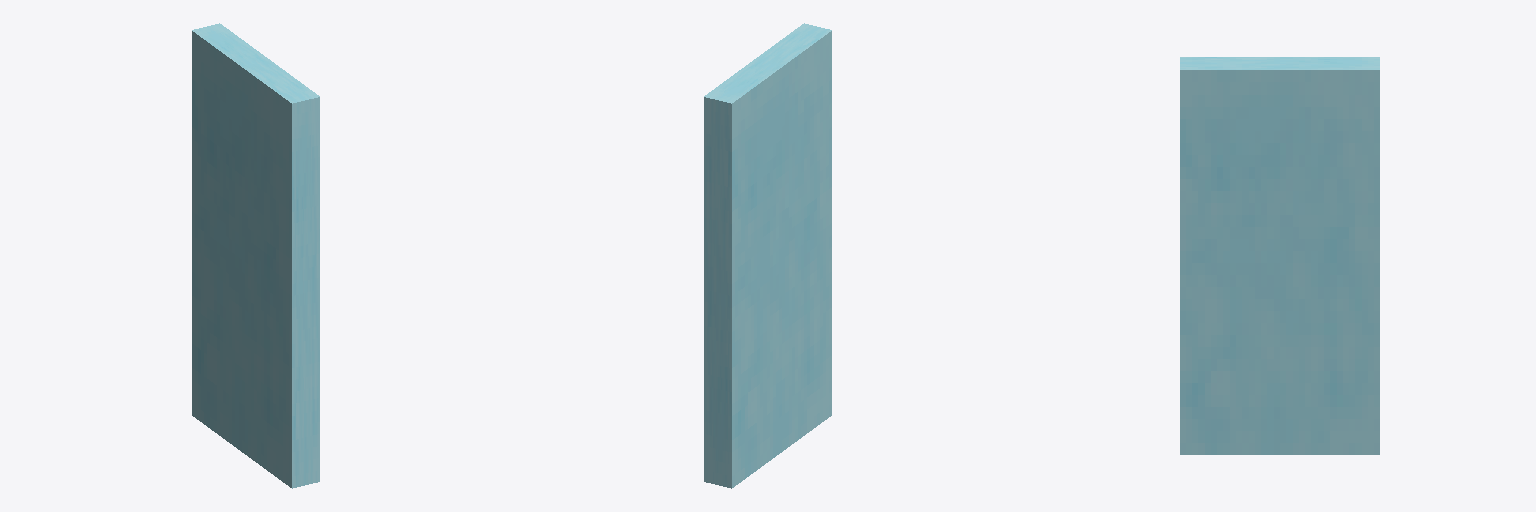
3 renders of one model, left to right at view 1: azimuth 30°, elevation 25°; view 2: azimuth 150°, elevation 25°; view 3: azimuth 270°, elevation 25°, orthographic.
Parts seen in each view (by area): view 1: pCube1; view 2: pCube1; view 3: pCube1.
Boxes of the visible parts, box(x1,y1,x2,y2) form: pCube1: box(192, 23, 319, 488); pCube1: box(704, 23, 831, 488); pCube1: box(1180, 57, 1379, 454).
Bounding box in the file's own units: 1 × 12.91 × 6.11.
1 materials, 1 textured.